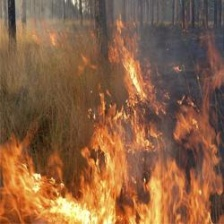fire: (4, 142, 221, 224), (101, 40, 161, 141)
